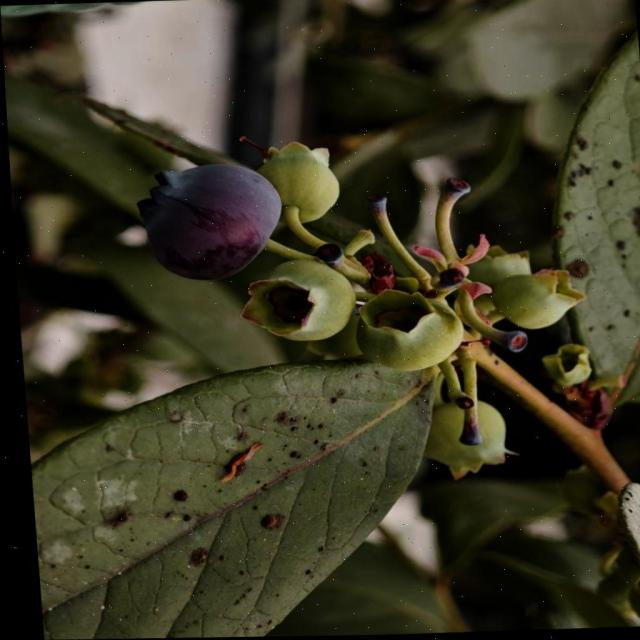Semi-RipeBlueBerry: (129, 161, 285, 285)
UnripeBlueBerry: (234, 258, 353, 345), (348, 286, 462, 372)
